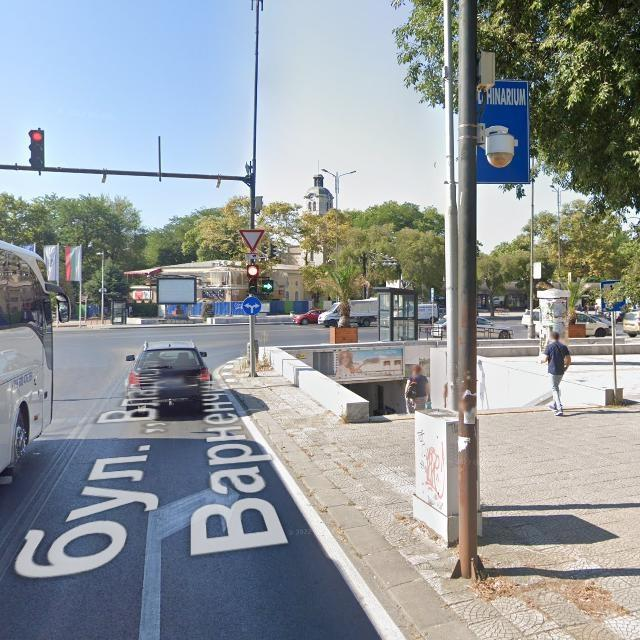prio_give_way: (239, 230, 266, 254)
